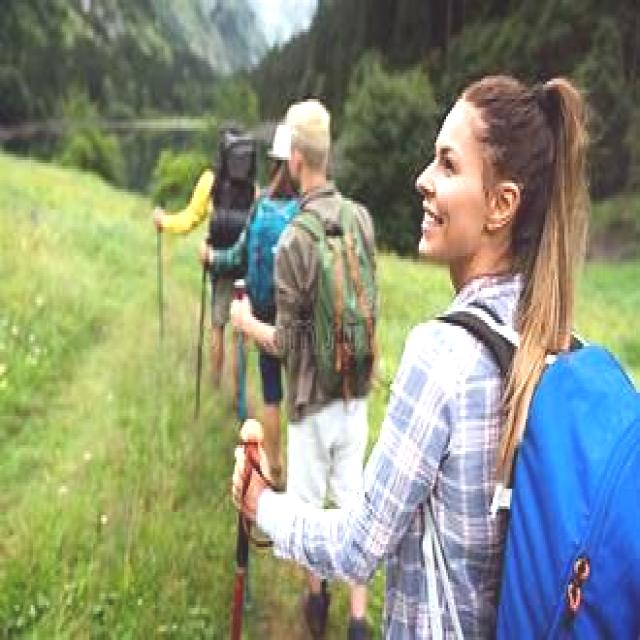backpack: (430, 304, 640, 638), (294, 196, 378, 400)
